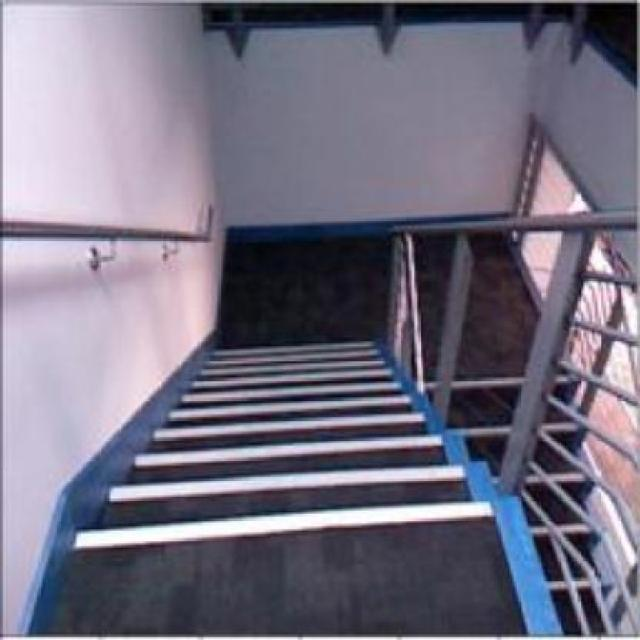stair: (52, 328, 494, 544)
